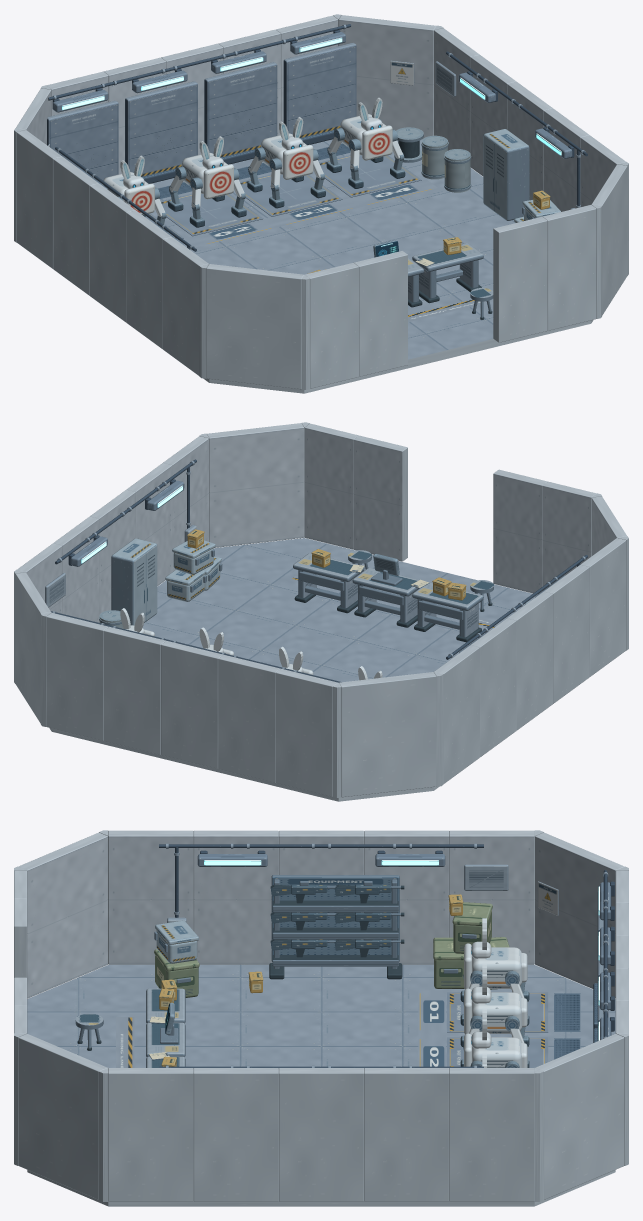
File: TunaSweeper_Range_Assembled.glb
3 views of the same model, one above another, from view 1: azimuth 30°, elevation 25°; view 2: azimuth 150°, elevation 25°; view 3: azimuth 270°, elevation 25° (orthographic). The views are drawn at different scales.
Visible parts, largest first — view 1: FloorShell, Wall_E08_00, Wall_E04_00, Wall_E01_00, BackstopPanel_003, BackstopPanel_004, BackstopPanel_002, Wall_E01_01, Wall_E00_01, Wall_E00_00, Wall_E07_00, Wall_E07_02 (+40 smaller); view 2: FloorShell, Wall_E06_00, Wall_E02_00, Wall_E05_01, Wall_E05_03, Wall_E05_00, Wall_E05_02, Wall_E05_04, Wall_E01_00, Wall_E01_01, Wall_E00_01, Wall_E07_02 (+24 smaller); view 3: FloorShell, Wall_E03_00, Wall_E03_04, Wall_E03_01, Wall_E03_03, Wall_E03_02, Wall_E08_00, Wall_E02_00, Wall_E04_00, Wall_E07_03, Wall_E07_04, WeaponRack_001 (+32 smaller).
Boxes of the visible parts, box(x1,y1,x2,y2) form: FloorShell: box(151, 139, 593, 393); Wall_E08_00: box(206, 264, 303, 389); Wall_E04_00: box(338, 15, 435, 139); Wall_E01_00: box(493, 217, 547, 342); BackstopPanel_003: box(204, 62, 277, 164); BackstopPanel_004: box(283, 43, 356, 144); BackstopPanel_002: box(125, 81, 197, 183); Wall_E01_01: box(543, 205, 596, 330); Wall_E00_01: box(354, 251, 407, 376); Wall_E00_00: box(305, 262, 358, 388); Wall_E07_00: box(16, 130, 62, 268); Wall_E07_02: box(89, 183, 135, 322); FloorShell: box(49, 538, 536, 801); Wall_E06_00: box(339, 672, 436, 797); Wall_E02_00: box(207, 423, 304, 547); Wall_E05_01: box(103, 626, 165, 754); Wall_E05_03: box(218, 655, 280, 782); Wall_E05_00: box(46, 613, 108, 740); Wall_E05_02: box(161, 640, 222, 768); Wall_E05_04: box(275, 668, 337, 796); Wall_E01_00: box(353, 435, 407, 561); Wall_E01_01: box(304, 423, 358, 549); Wall_E00_01: box(493, 469, 547, 594); Wall_E07_02: box(507, 591, 553, 730); FloorShell: box(27, 964, 615, 1206); Wall_E03_00: box(108, 1068, 193, 1201); Wall_E03_04: box(449, 1068, 534, 1201); Wall_E03_01: box(193, 1068, 278, 1201); Wall_E03_03: box(364, 1068, 449, 1201); Wall_E03_02: box(279, 1068, 363, 1201); Wall_E08_00: box(19, 832, 107, 998); Wall_E02_00: box(18, 1034, 107, 1199); Wall_E04_00: box(535, 1034, 624, 1199); Wall_E07_03: box(193, 830, 278, 964); Wall_E07_04: box(108, 830, 193, 964); WeaponRack_001: box(269, 875, 402, 979).
Bounding box in the file's own units: 11.32 × 3.02 × 12.12.
Materials: 3 (3 with a texture image).
